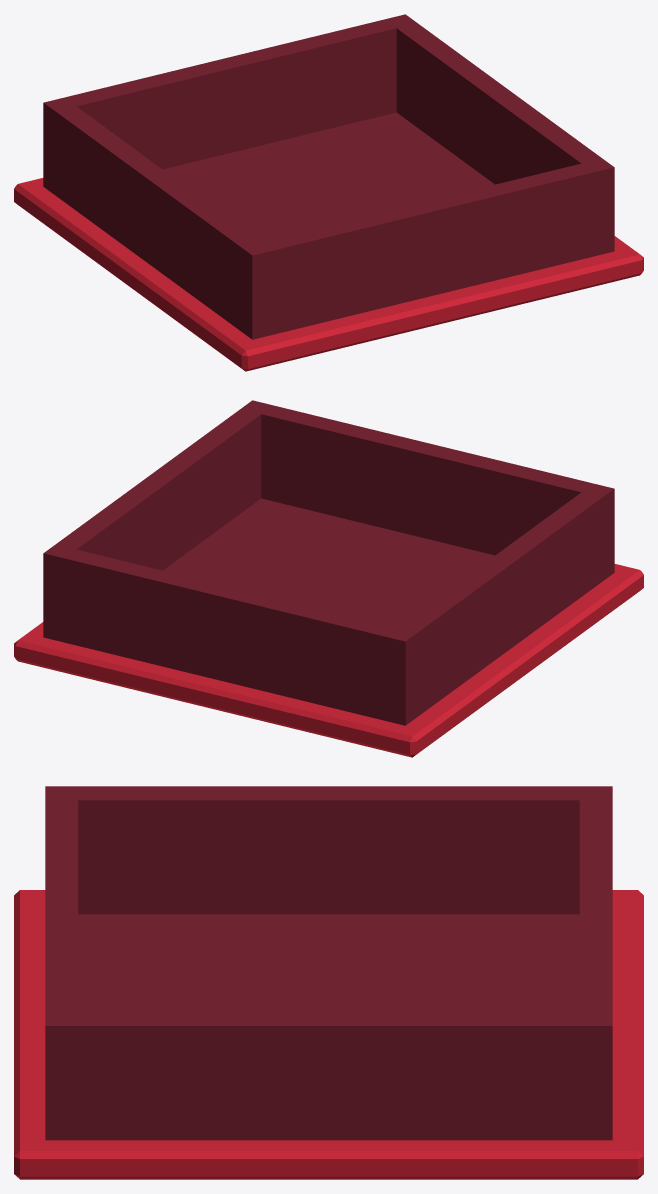
Rendered from tower_bottom_002_msh.fbx.
The picture shows the model from 3 angles, top to bottom: view 1: azimuth 30°, elevation 25°; view 2: azimuth 150°, elevation 25°; view 3: azimuth 270°, elevation 25°; orthographic projection. The views are drawn at different scales.
Visible parts, largest first — view 1: tower_bottom_002_msh; view 2: tower_bottom_002_msh; view 3: tower_bottom_002_msh.
Boxes of the visible parts, box(x1,y1,x2,y2) form: tower_bottom_002_msh: box(14, 14, 643, 371); tower_bottom_002_msh: box(14, 400, 643, 757); tower_bottom_002_msh: box(14, 786, 643, 1179).
Size of the model in its own units: 400 by 100 by 400.
